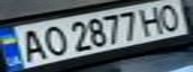2: (66, 18, 90, 52)
7: (118, 8, 142, 39), (103, 11, 124, 44)
8: (84, 15, 109, 47)
A: (12, 27, 51, 63)
H: (136, 3, 169, 36)
O: (36, 23, 69, 57), (154, 1, 187, 31)
